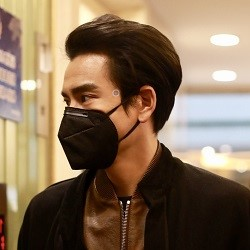mask: (55, 100, 138, 172)
